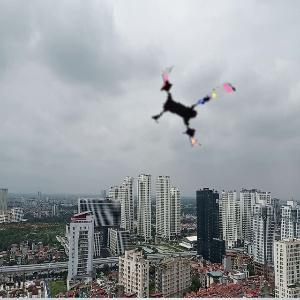drone: (145, 58, 239, 152)
